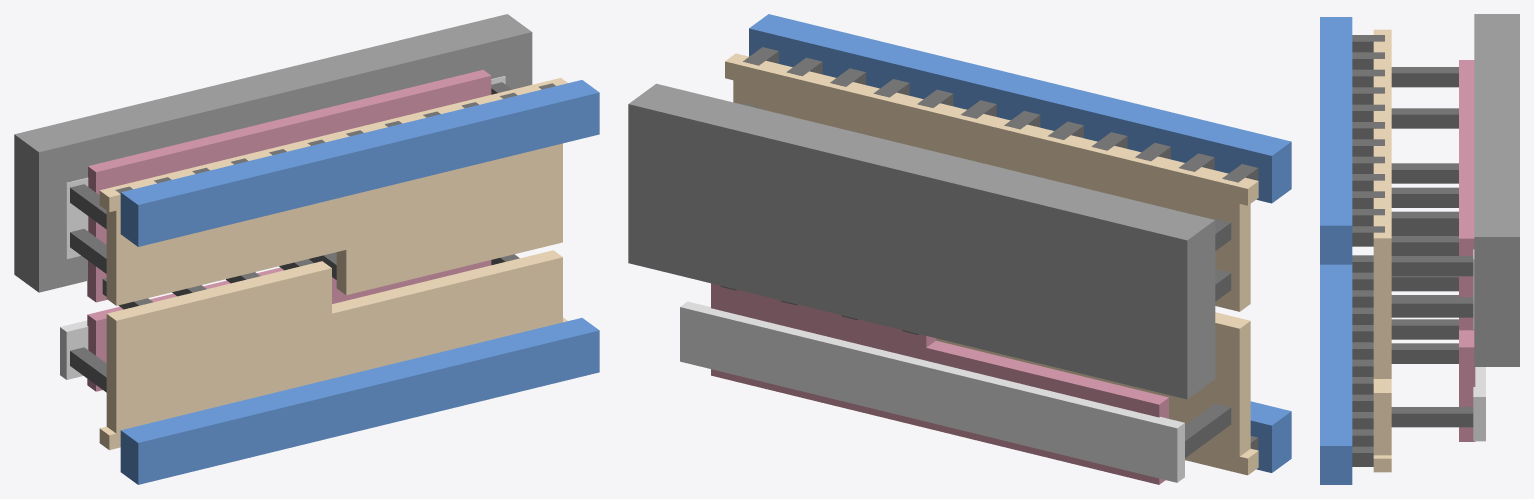
The model's file is sky130_fd_sc_hd__decap_12.gds.gltf.
3 views of the same model, side by side, from view 1: azimuth 30°, elevation 25°; view 2: azimuth 150°, elevation 25°; view 3: azimuth 270°, elevation 25° (orthographic). The views are drawn at different scales.
Parts seen in each view (by area): view 1: sky130_fd_sc_hd__decap_12_li1, sky130_fd_sc_hd__decap_12_met1, sky130_fd_sc_hd__decap_12_nwell, sky130_fd_sc_hd__decap_12_poly, sky130_fd_sc_hd__decap_12_licon, sky130_fd_sc_hd__decap_12_diff, sky130_fd_sc_hd__decap_12_mcon; view 2: sky130_fd_sc_hd__decap_12_nwell, sky130_fd_sc_hd__decap_12_li1, sky130_fd_sc_hd__decap_12_diff, sky130_fd_sc_hd__decap_12_met1, sky130_fd_sc_hd__decap_12_poly, sky130_fd_sc_hd__decap_12_mcon, sky130_fd_sc_hd__decap_12_licon; view 3: sky130_fd_sc_hd__decap_12_licon, sky130_fd_sc_hd__decap_12_nwell, sky130_fd_sc_hd__decap_12_met1, sky130_fd_sc_hd__decap_12_mcon, sky130_fd_sc_hd__decap_12_li1, sky130_fd_sc_hd__decap_12_poly, sky130_fd_sc_hd__decap_12_diff.
Part boxes in pixels (x1,y1,x2,y2): sky130_fd_sc_hd__decap_12_li1: [99, 78, 567, 450]; sky130_fd_sc_hd__decap_12_met1: [120, 80, 599, 484]; sky130_fd_sc_hd__decap_12_nwell: [14, 14, 532, 292]; sky130_fd_sc_hd__decap_12_poly: [87, 70, 491, 391]; sky130_fd_sc_hd__decap_12_licon: [70, 82, 519, 392]; sky130_fd_sc_hd__decap_12_diff: [60, 76, 505, 379]; sky130_fd_sc_hd__decap_12_mcon: [115, 83, 555, 193]; sky130_fd_sc_hd__decap_12_nwell: [628, 83, 1215, 399]; sky130_fd_sc_hd__decap_12_li1: [725, 53, 1258, 475]; sky130_fd_sc_hd__decap_12_diff: [680, 301, 1184, 482]; sky130_fd_sc_hd__decap_12_met1: [749, 14, 1291, 472]; sky130_fd_sc_hd__decap_12_poly: [711, 283, 1168, 484]; sky130_fd_sc_hd__decap_12_mcon: [743, 47, 1258, 450]; sky130_fd_sc_hd__decap_12_licon: [720, 103, 1231, 457]; sky130_fd_sc_hd__decap_12_licon: [1391, 67, 1473, 427]; sky130_fd_sc_hd__decap_12_nwell: [1474, 14, 1519, 366]; sky130_fd_sc_hd__decap_12_met1: [1320, 17, 1352, 484]; sky130_fd_sc_hd__decap_12_mcon: [1352, 35, 1384, 466]; sky130_fd_sc_hd__decap_12_li1: [1373, 29, 1391, 472]; sky130_fd_sc_hd__decap_12_poly: [1459, 60, 1475, 441]; sky130_fd_sc_hd__decap_12_diff: [1473, 249, 1485, 441].
Bounding box in the file's own units: 5.9 × 3.2 × 2.24.
